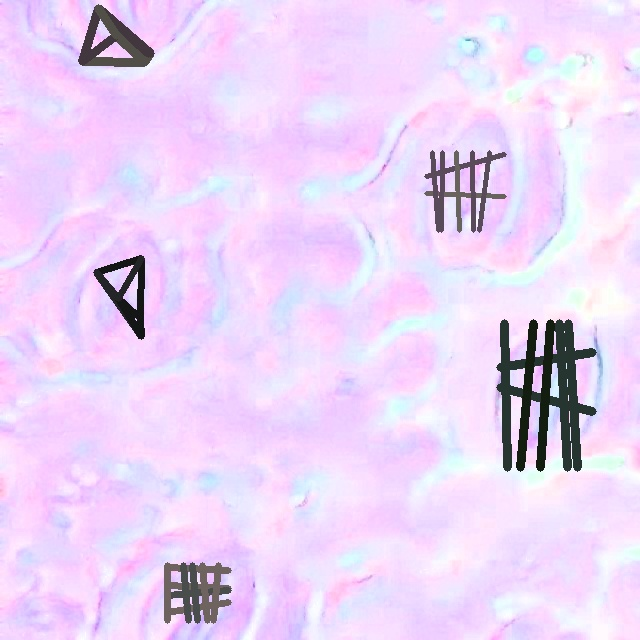open: (496, 319, 596, 471), (425, 151, 505, 231), (78, 4, 153, 66), (93, 256, 143, 339), (164, 562, 231, 623)
